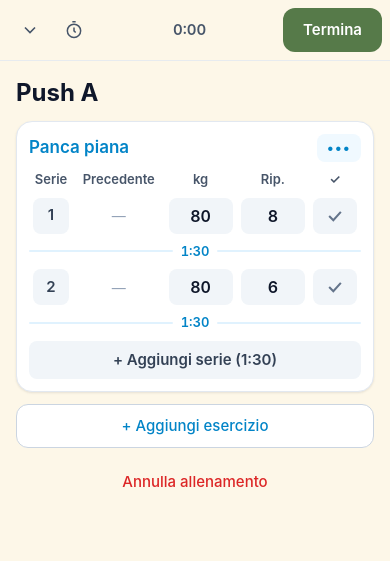
Scenario: Termina nell'IPA › C31: senza sync in tempo si apre il riepilogo locale con le sole serie completate
What coordinates should you click on to do the following:
click the button named "Completa serie 1"
I would click on:
 (335, 216)
Its box is x1=313 y1=198 x2=357 y2=234.
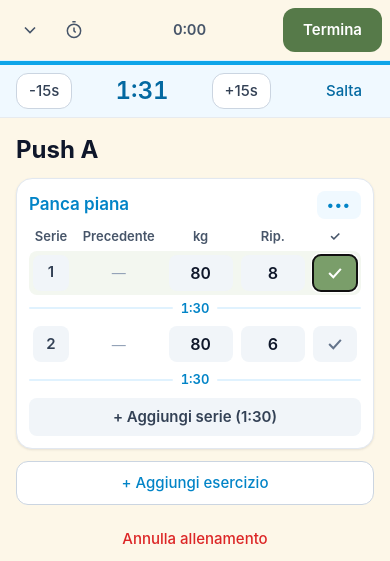
What coordinates should you click on to do the following:
click the button "Termina"
I would click on:
 (333, 30)
Its box is x1=283 y1=8 x2=382 y2=52.
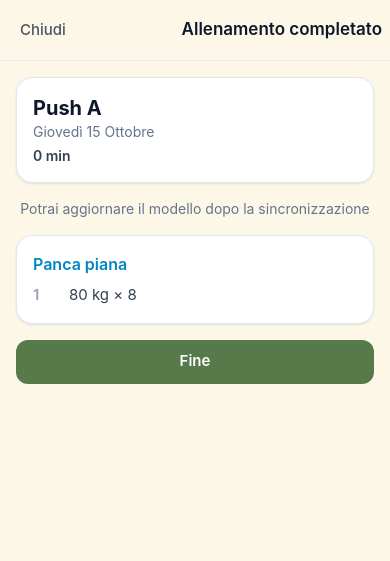
Now the text "Potrai aggiornare il modello dopo la sincronizzazione" is shown, box x1=16 y1=199 x2=374 y2=219
Now the heading "Allenamento completato" is shown, box x1=182 y1=17 x2=382 y2=43
Now the number of list items is 1, box x1=33 y1=285 x2=137 y2=304
